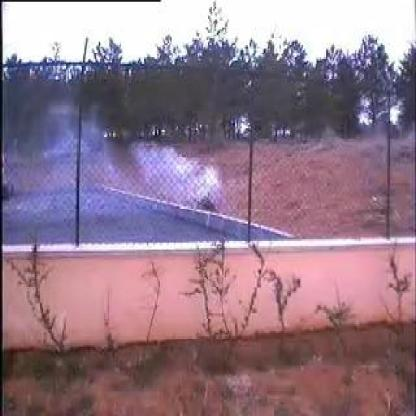-: (39, 94, 227, 242)
